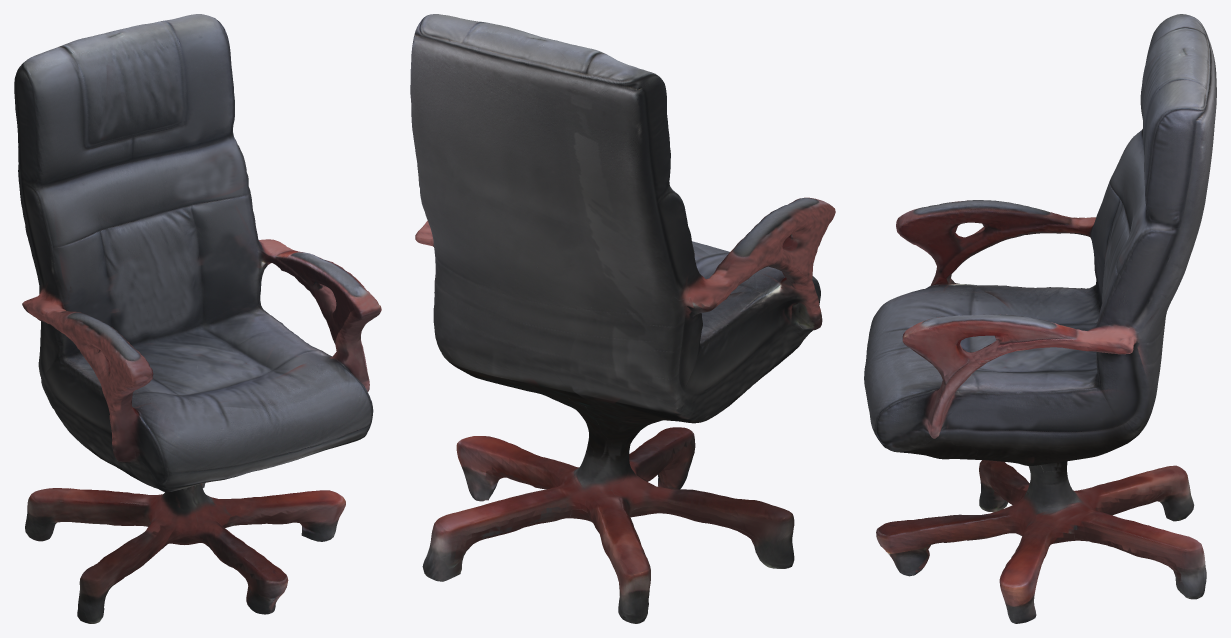
Rendered from swivel_chair.glb.
3 renders of one model, left to right at view 1: azimuth 30°, elevation 25°; view 2: azimuth 150°, elevation 25°; view 3: azimuth 270°, elevation 25°, orthographic. The views are drawn at different scales.
Visible parts, largest first — view 1: Object_2, Object_3; view 2: Object_2, Object_3; view 3: Object_2, Object_3.
Boxes of the visible parts, x1,y1,x2,y2 form: Object_2: (14, 14, 381, 623); Object_3: (17, 36, 272, 614); Object_2: (410, 14, 822, 623); Object_3: (422, 45, 835, 575); Object_2: (864, 40, 1216, 623); Object_3: (868, 14, 1216, 599).
Bounding box in the file's own units: 9.12 × 15.57 × 9.6.
1 material, 1 textured.
